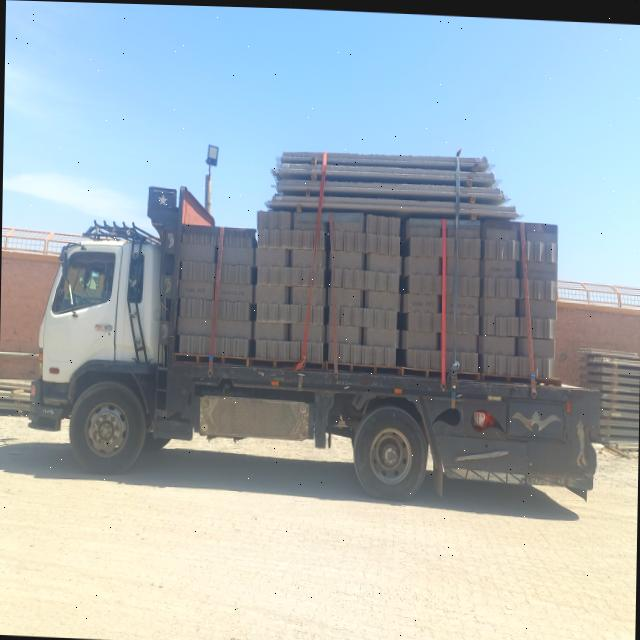bricks: (336, 189, 566, 389), (162, 200, 337, 370)
